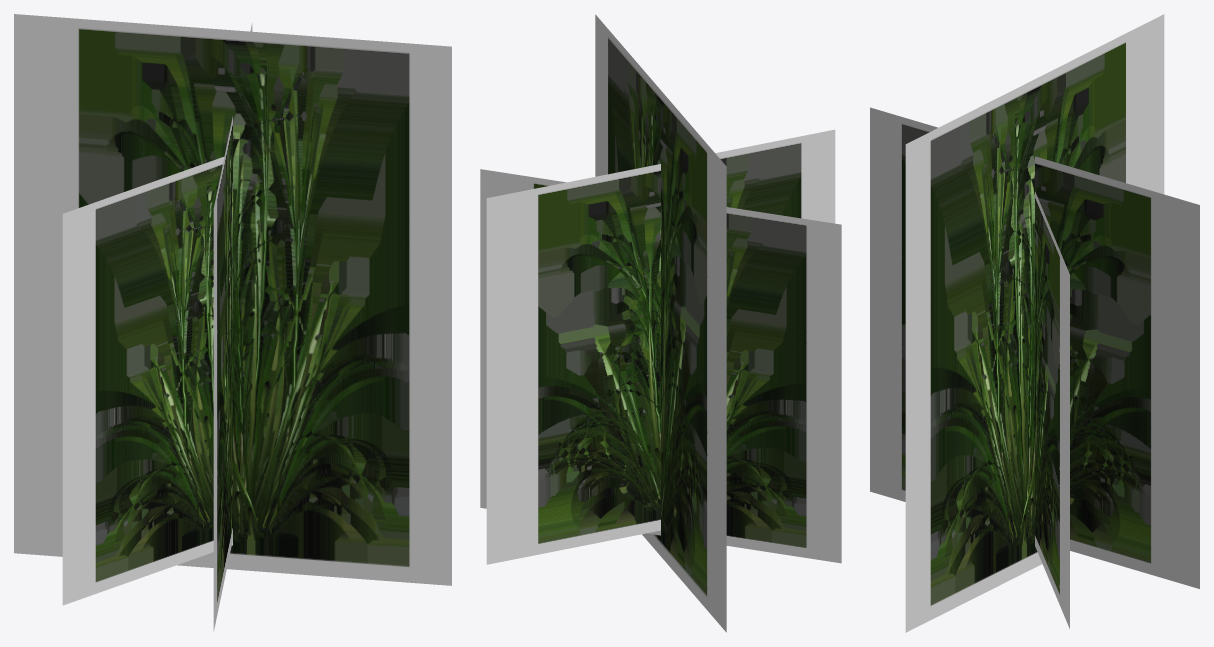
The model's file is smallgrass.glb.
3 renders of one model, left to right at view 1: azimuth 30°, elevation 25°; view 2: azimuth 150°, elevation 25°; view 3: azimuth 270°, elevation 25°, orthographic. The views are drawn at different scales.
Visible parts, largest first — view 1: Plane007, Plane005, Plane006; view 2: Plane006, Plane005, Plane007; view 3: Plane007, Plane006, Plane005.
Boxes of the visible parts, x1,y1,x2,y2 form: Plane007: (14, 14, 451, 585); Plane005: (62, 157, 232, 605); Plane006: (213, 23, 252, 631); Plane006: (486, 129, 835, 564); Plane005: (480, 169, 841, 563); Plane007: (595, 14, 726, 632); Plane007: (905, 14, 1164, 632); Plane006: (870, 107, 1199, 588); Plane005: (1035, 191, 1069, 628).
Size of the model in its own units: 1.3 by 1.77 by 1.08.
Materials: 1 (1 with a texture image).
